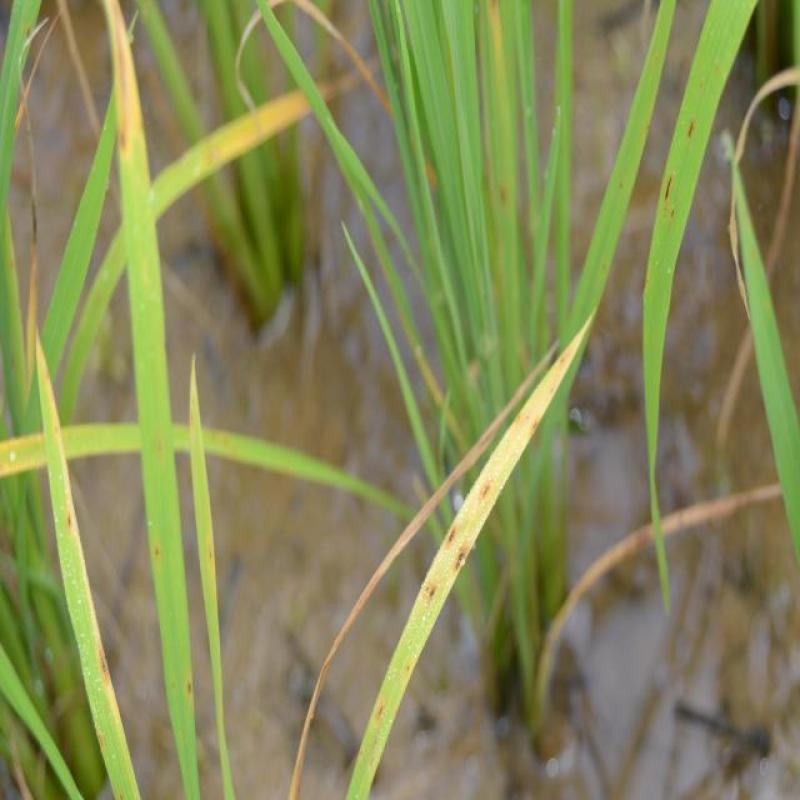Rice Tungro: (399, 339, 601, 756)
